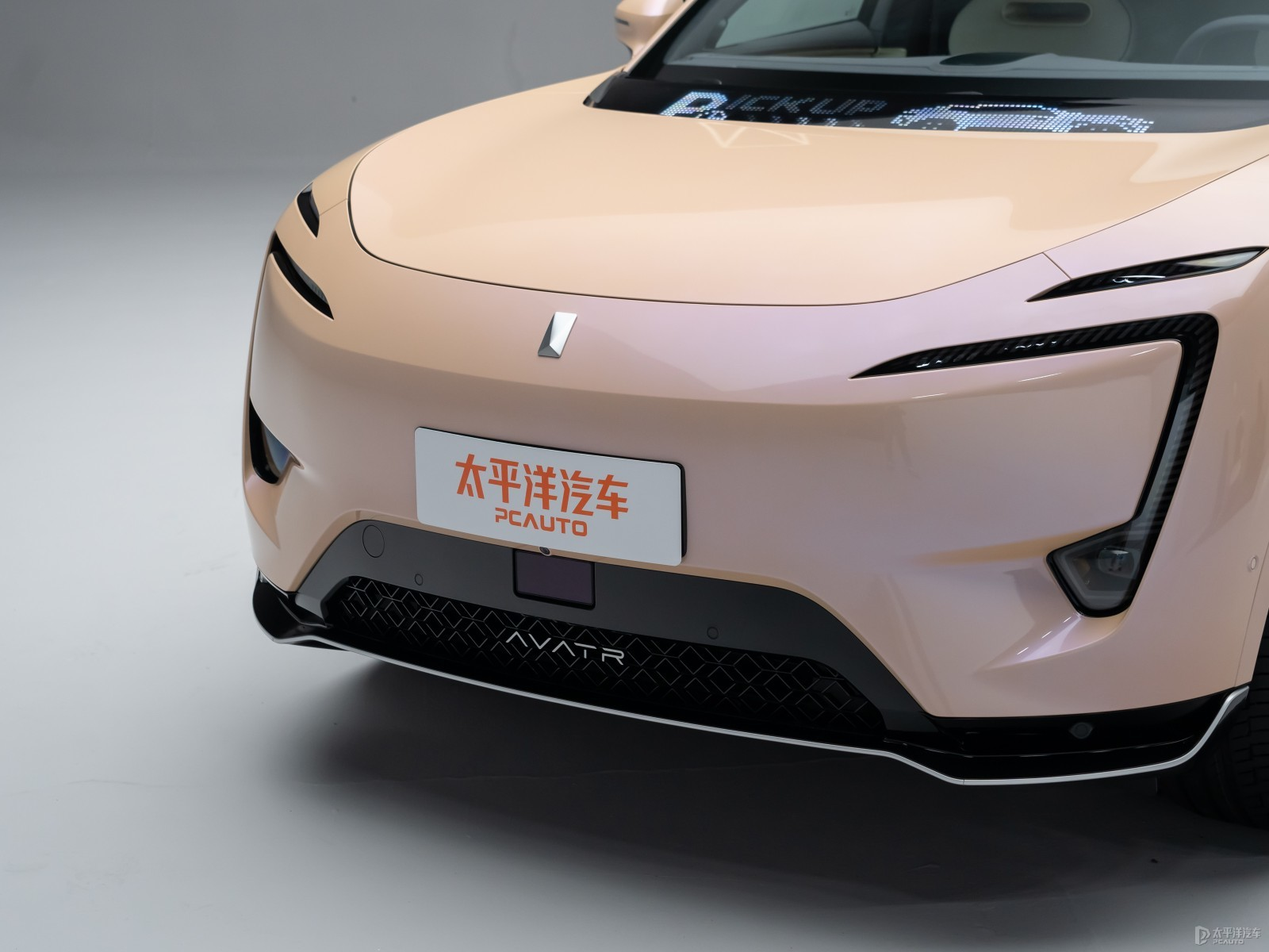AVATR: (538, 312, 577, 358)
